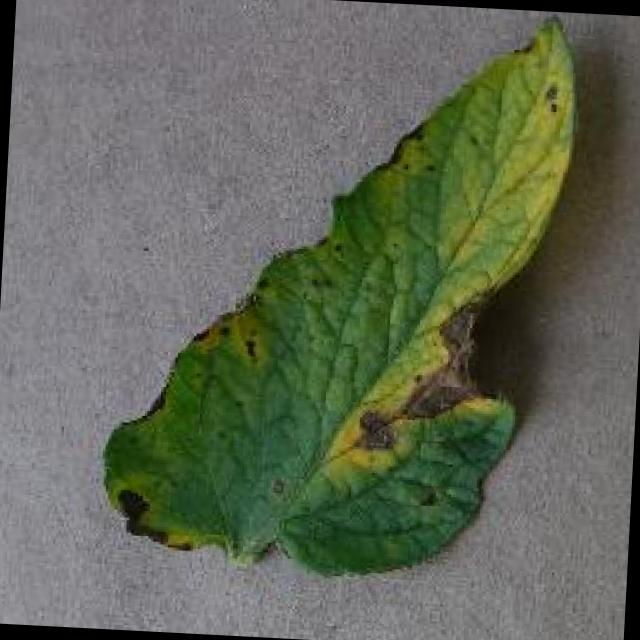Tomato_Early_Blight: (119, 161, 583, 578)
